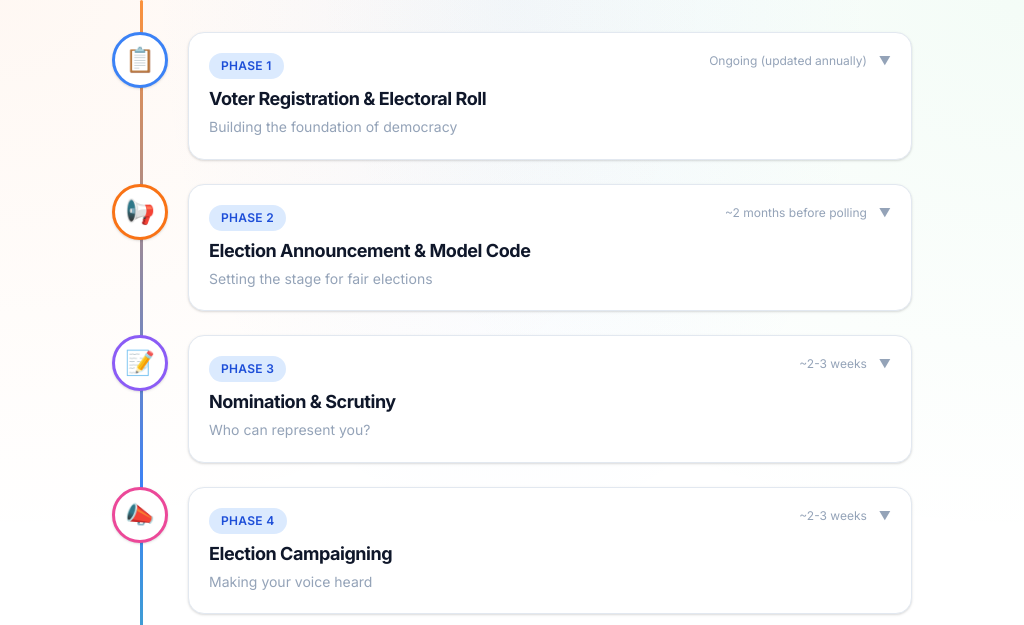
ElectionTimeline › collapses phase on second click
Click the button "Voter Registration & Electoral Roll".
click(246, 66)  # box [189, 33, 911, 158]
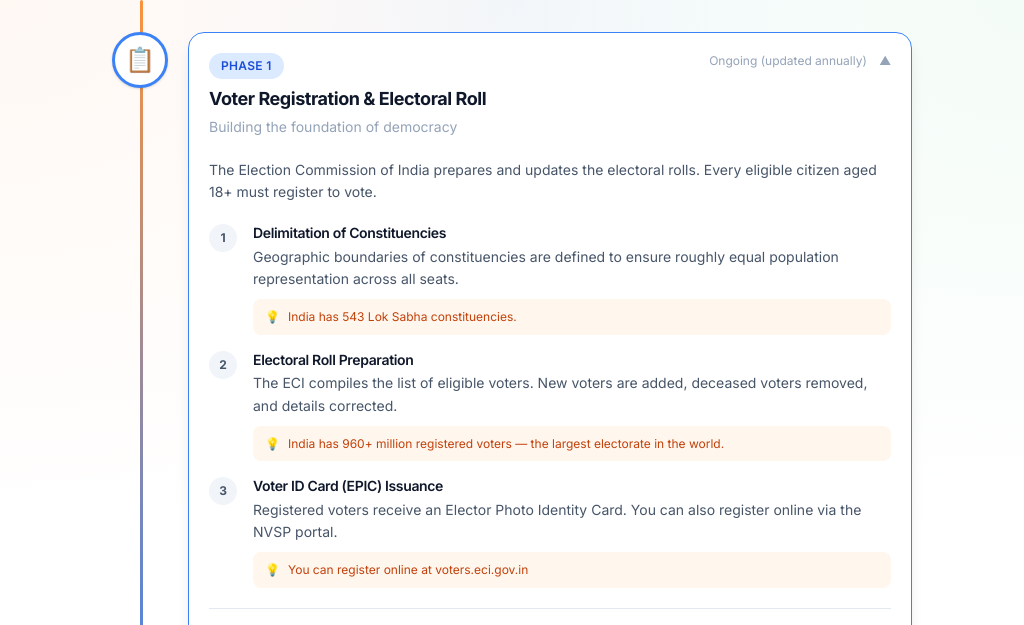
Click the button "Voter Registration & Electoral Roll".
click(246, 66)  # box [189, 33, 911, 158]
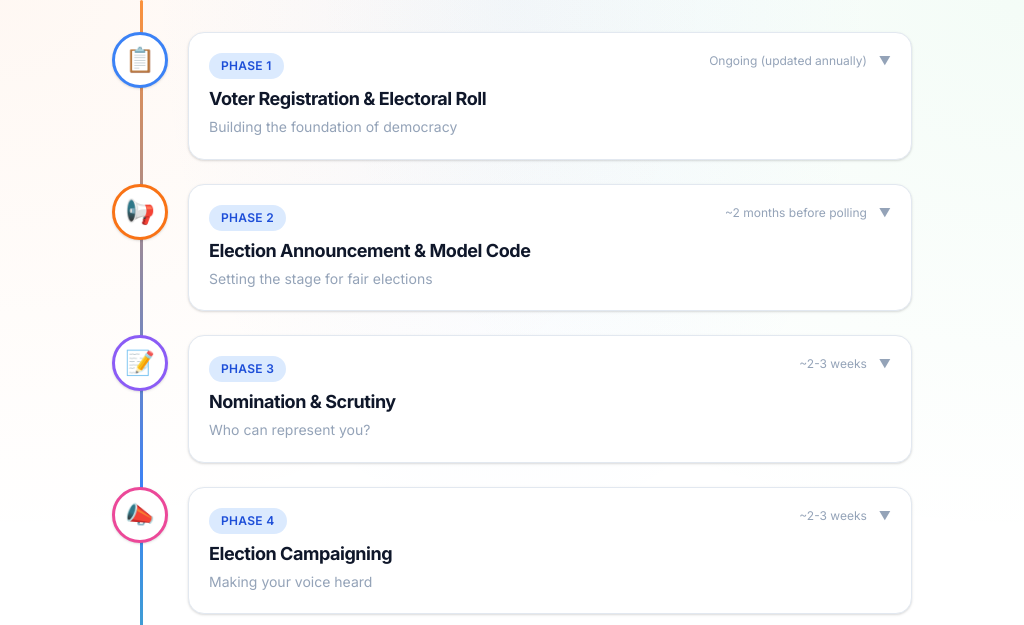
Expected: the heading "Delimitation of Constituencies" is gone
